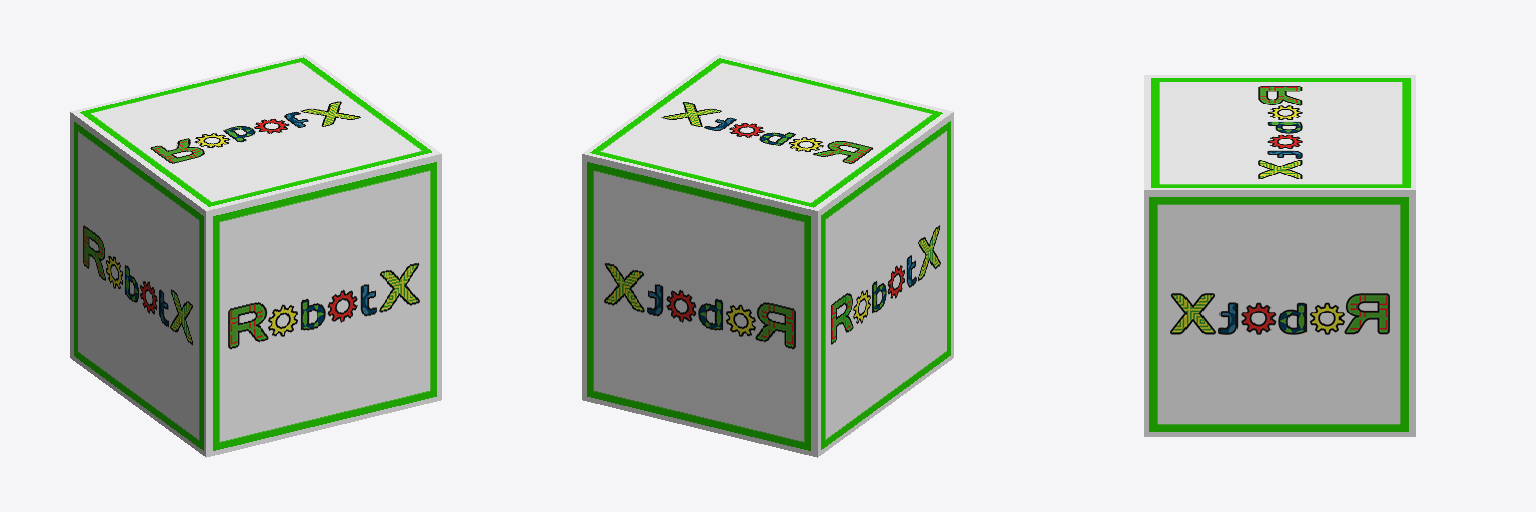
3 views of the same model, side by side, from view 1: azimuth 30°, elevation 25°; view 2: azimuth 150°, elevation 25°; view 3: azimuth 270°, elevation 25° (orthographic).
Visible parts, largest first — view 1: Cube; view 2: Cube; view 3: Cube.
Boxes of the visible parts, <box> form: Cube: <box>70,54,441,457</box>; Cube: <box>582,54,953,457</box>; Cube: <box>1144,75,1415,436</box>.
Size of the model in its own units: 1 by 1 by 1.
Materials: 1 (1 with a texture image).